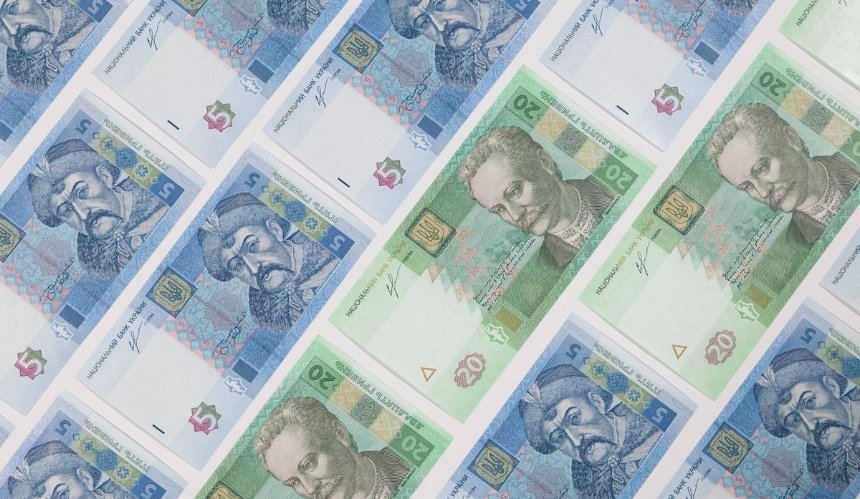bn_20: (199, 67, 658, 380), (479, 119, 850, 363), (224, 330, 448, 458), (750, 0, 860, 62)
bn_5: (0, 139, 375, 431), (193, 1, 484, 185), (607, 303, 860, 481), (0, 106, 198, 287), (463, 316, 699, 457), (74, 0, 294, 143), (504, 0, 707, 115), (39, 390, 184, 463), (0, 0, 96, 75)
